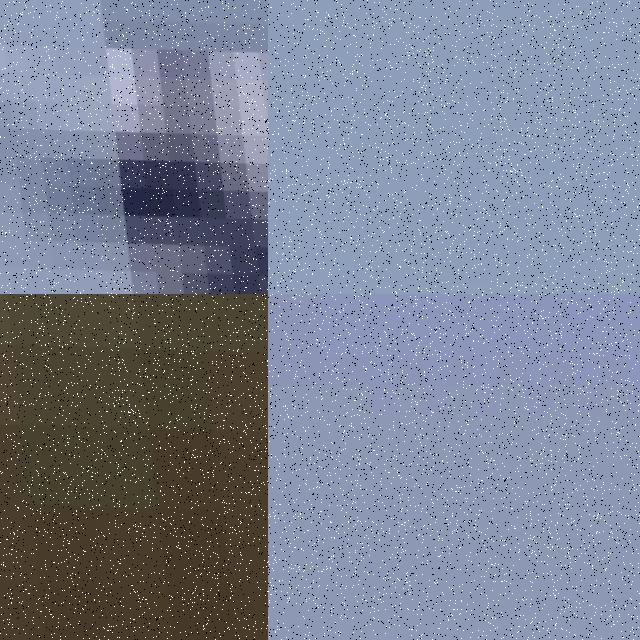drone: (0, 294, 268, 640), (0, 0, 268, 294)
